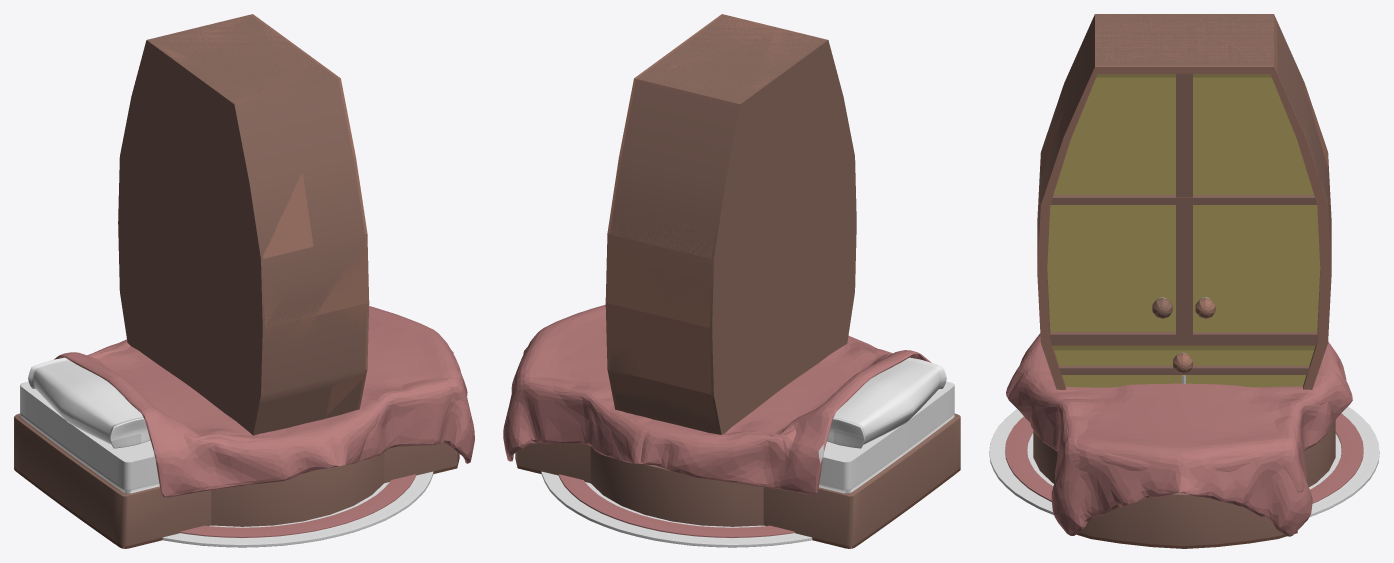
File: yatak_odasi_objeler.fbx
3 renders of one model, left to right at view 1: azimuth 30°, elevation 25°; view 2: azimuth 150°, elevation 25°; view 3: azimuth 270°, elevation 25°, orthographic.
Parts seen in each view (by area): view 1: kapali_dolap, yatak1, acik_dolap, hali; view 2: kapali_dolap, yatak1, acik_dolap, hali; view 3: kapali_dolap, yatak1, acik_dolap, hali.
Part boxes in pixels (bbox=[...]): kapali_dolap: bbox=[118, 15, 366, 435]; yatak1: bbox=[14, 306, 474, 548]; acik_dolap: bbox=[150, 14, 369, 416]; hali: bbox=[162, 471, 433, 547]; kapali_dolap: bbox=[609, 14, 856, 434]; yatak1: bbox=[503, 304, 960, 548]; acik_dolap: bbox=[605, 14, 824, 428]; hali: bbox=[541, 471, 812, 547]; kapali_dolap: bbox=[1037, 14, 1331, 387]; yatak1: bbox=[1006, 333, 1352, 548]; acik_dolap: bbox=[1037, 15, 1331, 389]; hali: bbox=[989, 407, 1379, 516].
Bounding box in the file's own units: 10.76 × 10.72 × 9.15.
